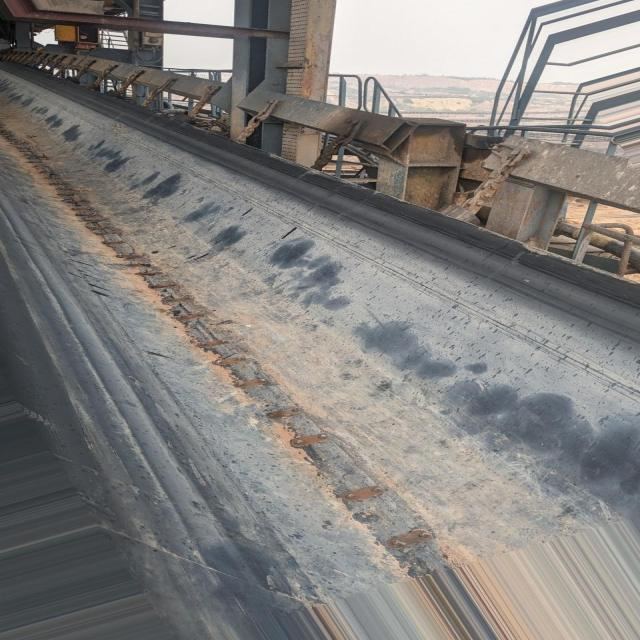patch work: (0, 113, 471, 574)
